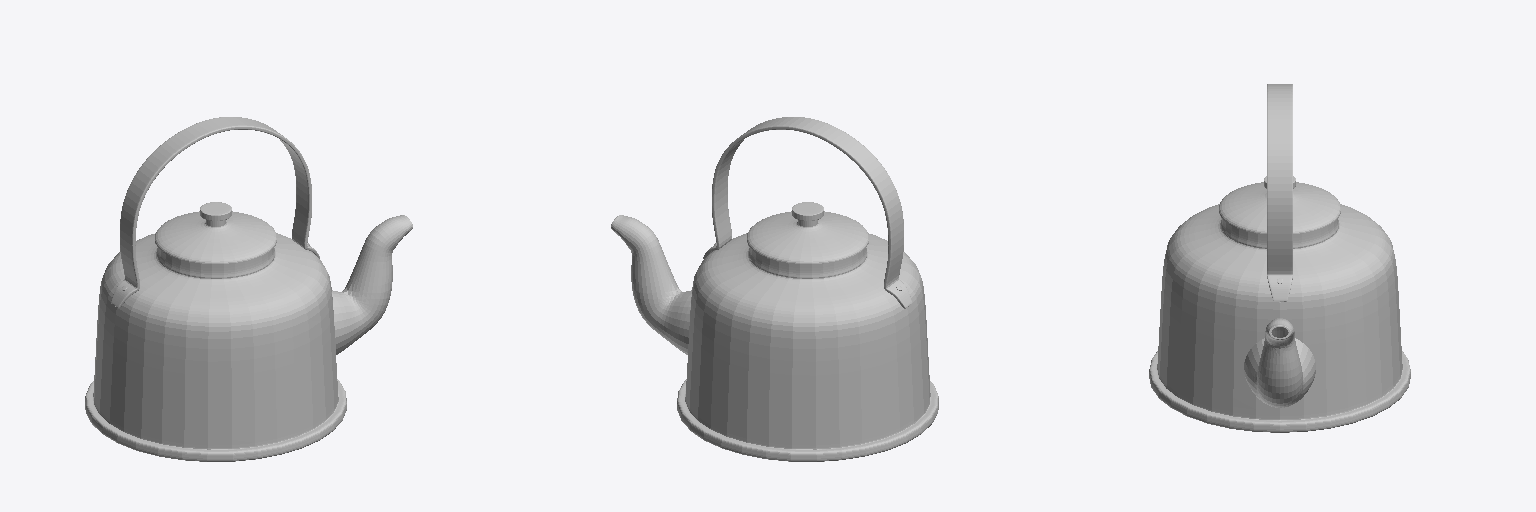
Rendered from teapot.obj.
3 views of the same model, side by side, from view 1: azimuth 30°, elevation 25°; view 2: azimuth 150°, elevation 25°; view 3: azimuth 270°, elevation 25° (orthographic).
Visible parts, largest first — view 1: teapot_Circle.002; view 2: teapot_Circle.002; view 3: teapot_Circle.002.
Part boxes in pixels (x1,y1,x2,y2): teapot_Circle.002: (85, 117, 412, 461); teapot_Circle.002: (611, 117, 938, 461); teapot_Circle.002: (1149, 84, 1410, 432).
Bounding box in the file's own units: 1.45 × 1.28 × 1.08.